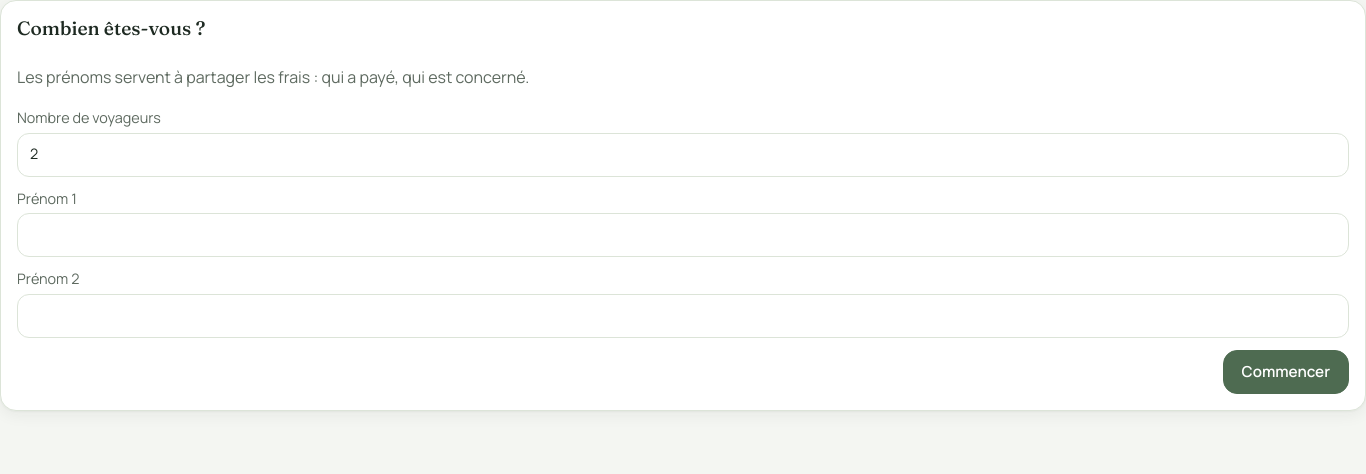
Test: BudgetTab — voyageurs › refuse de continuer sans aucun prénom
Click the button "Commencer" at (1286, 372), box [1222, 350, 1349, 394]
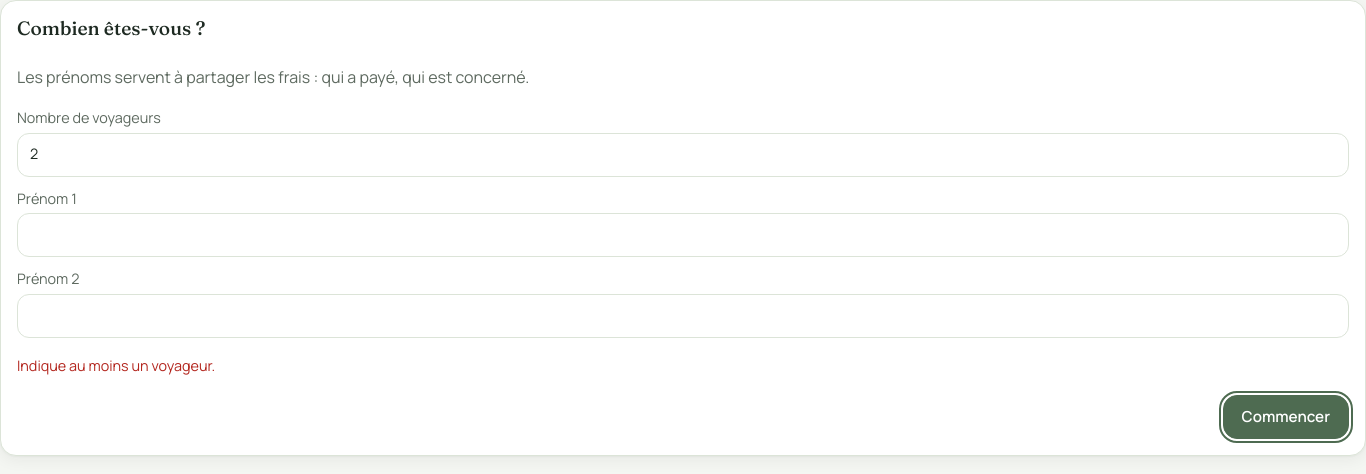
Now the text "Indique au moins un voyageur." is shown, box [17, 356, 215, 375]
